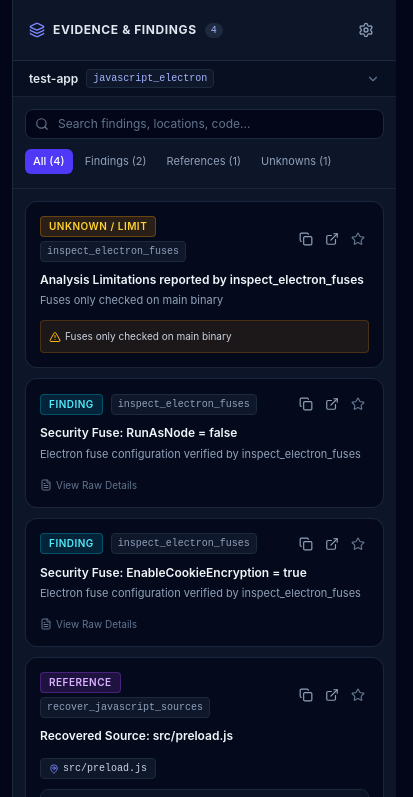
Test: EvidencePane Component › filters items when clicking group tabs
Note: Click "References" tab
Click the button "References (1)".
click(204, 162)  # box [159, 149, 249, 174]
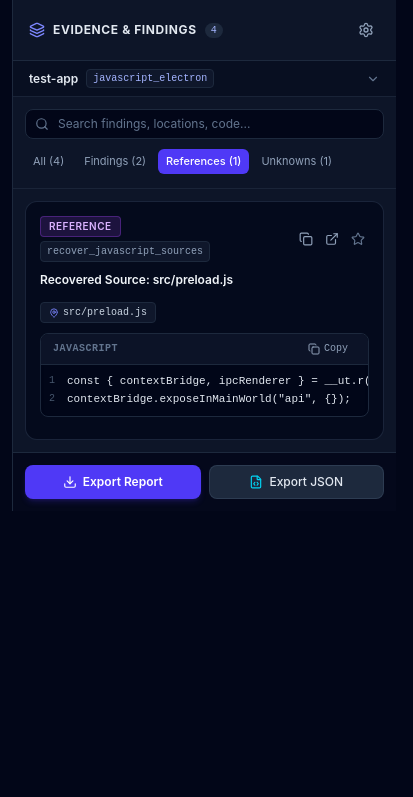
Expected: the heading "Recovered Source: src/preload.js" is shown, [40, 272, 233, 287]
Expected: the heading "Security Fuse: RunAsNode = false" is gone
